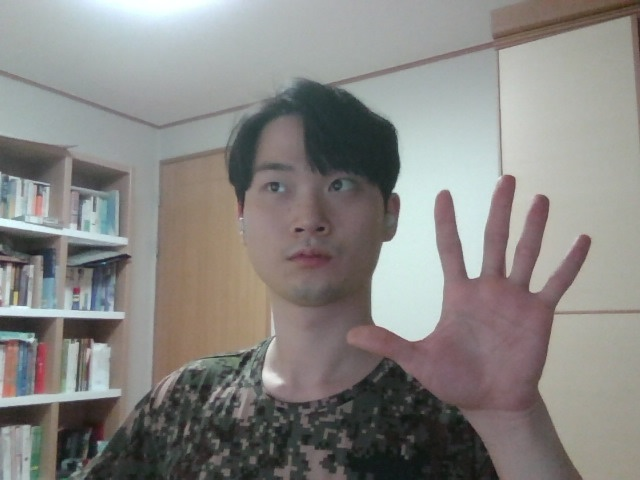hello: (340, 166, 604, 414)
